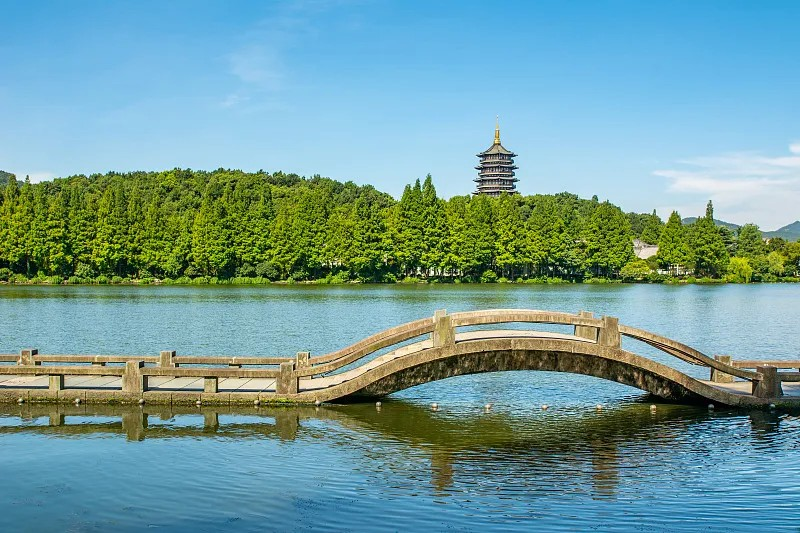Leifeng: (473, 112, 519, 198)
